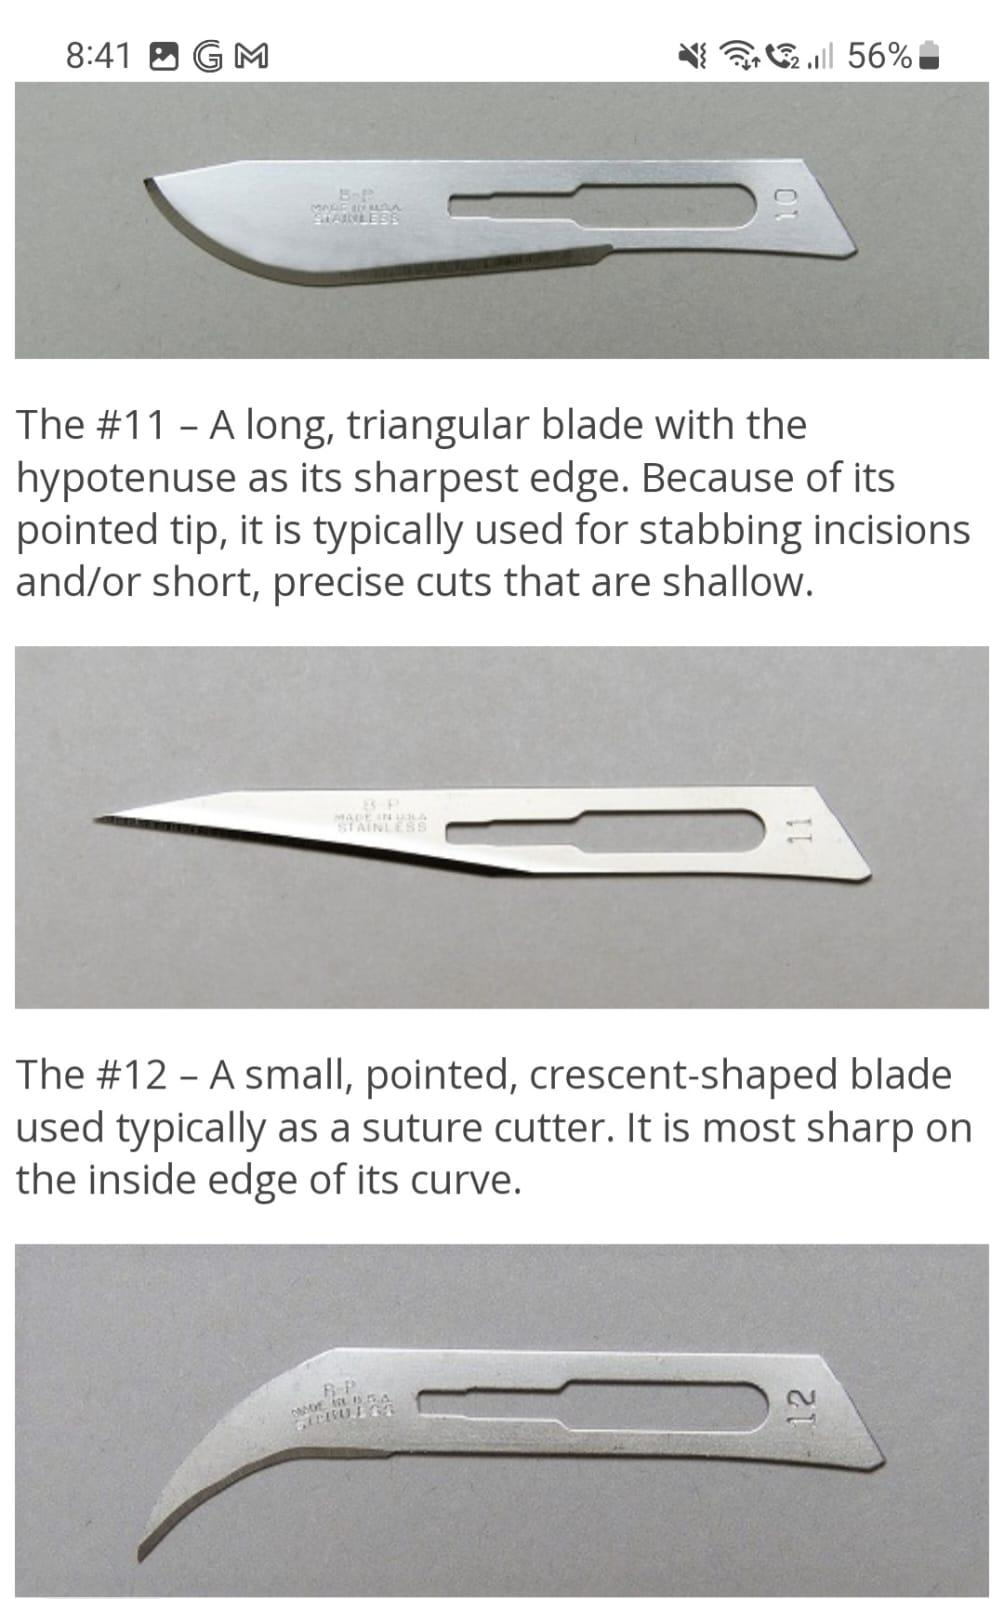Surgical blade: (123, 1325, 890, 1568), (88, 725, 900, 915), (125, 117, 870, 310)
